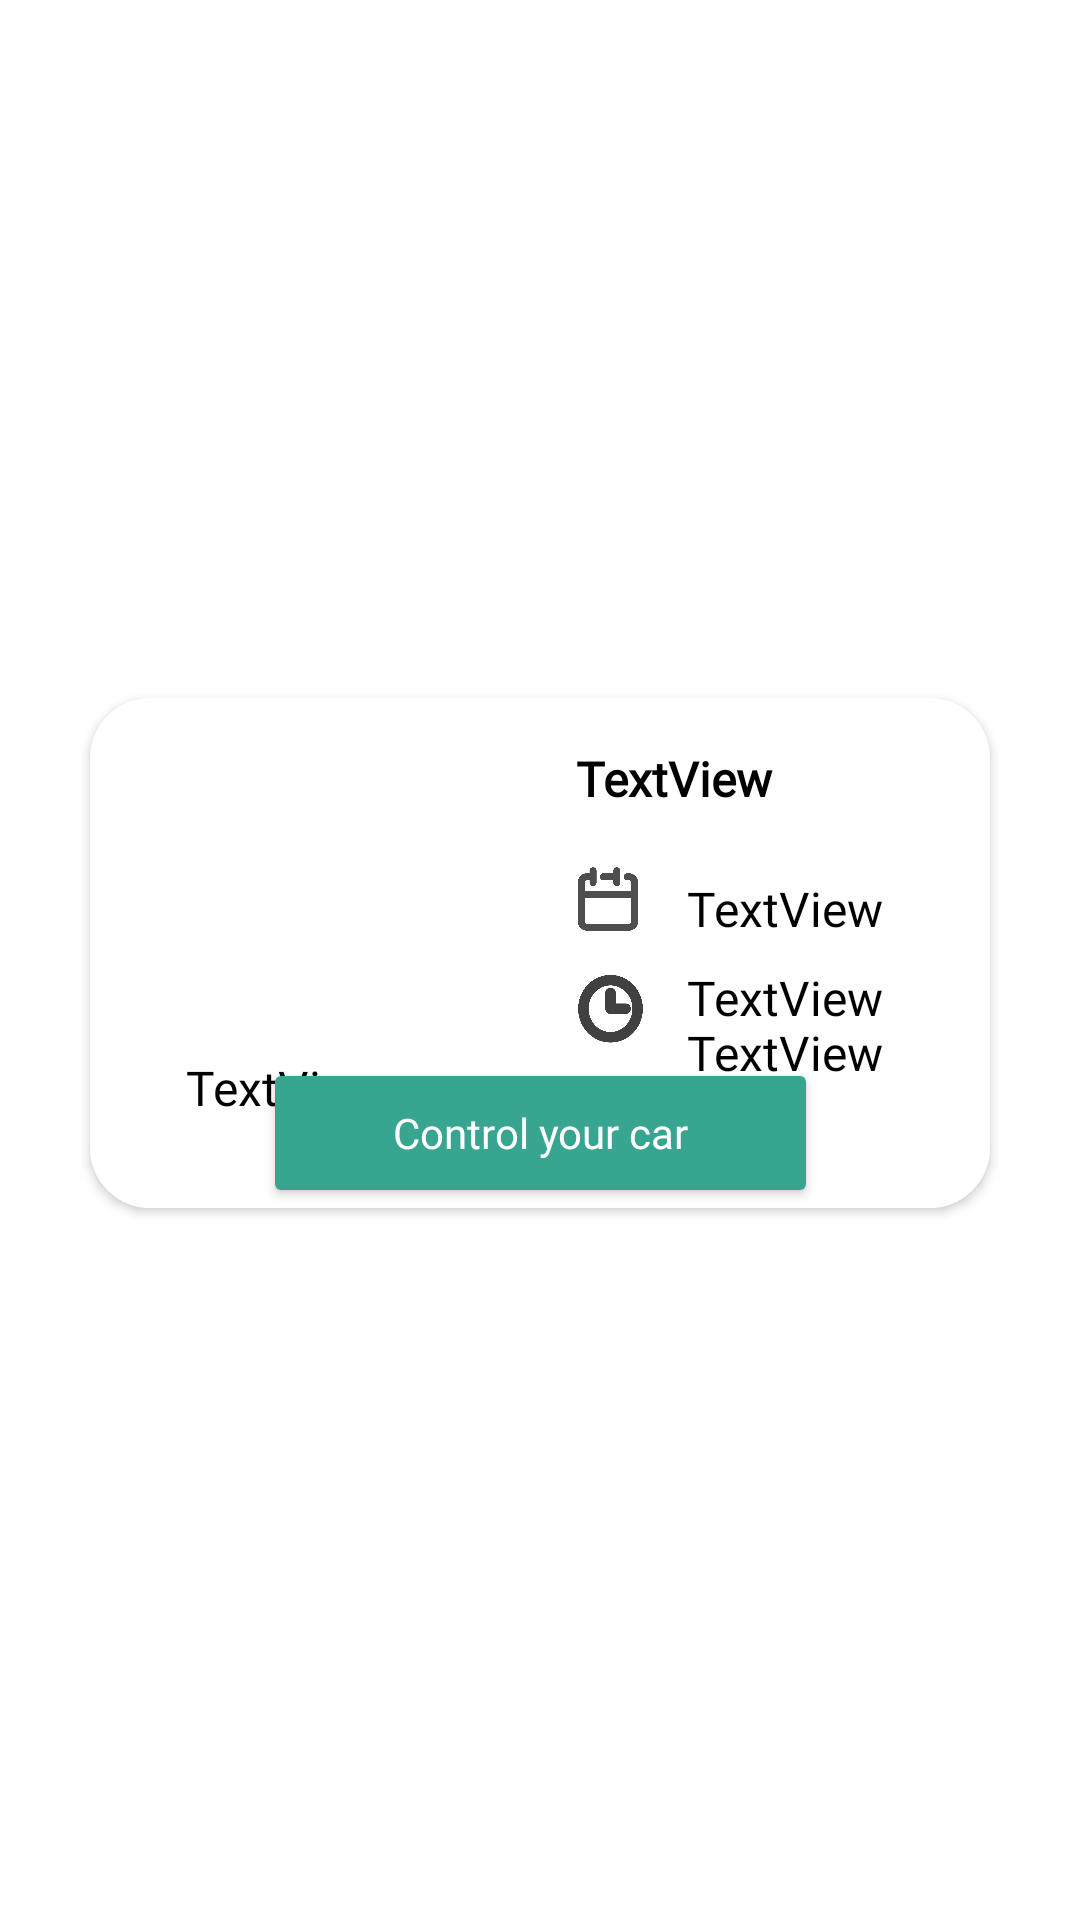

Icon bounding boxes for this 1080 × 1920 phone screenshot, format (left=x1, top=y1, right=x2, bottom=y2):
horloge: (left=578, top=975, right=643, bottom=1043)
iconcalendar: (left=578, top=867, right=638, bottom=931)
